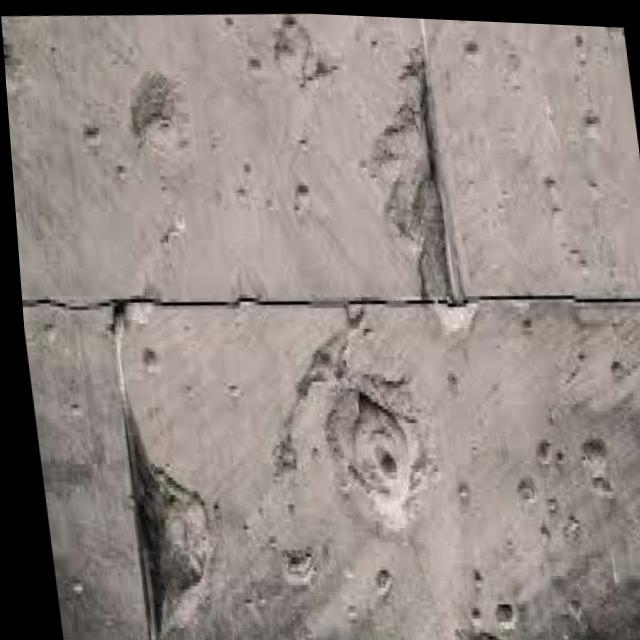Crack: (13, 227, 640, 407)
